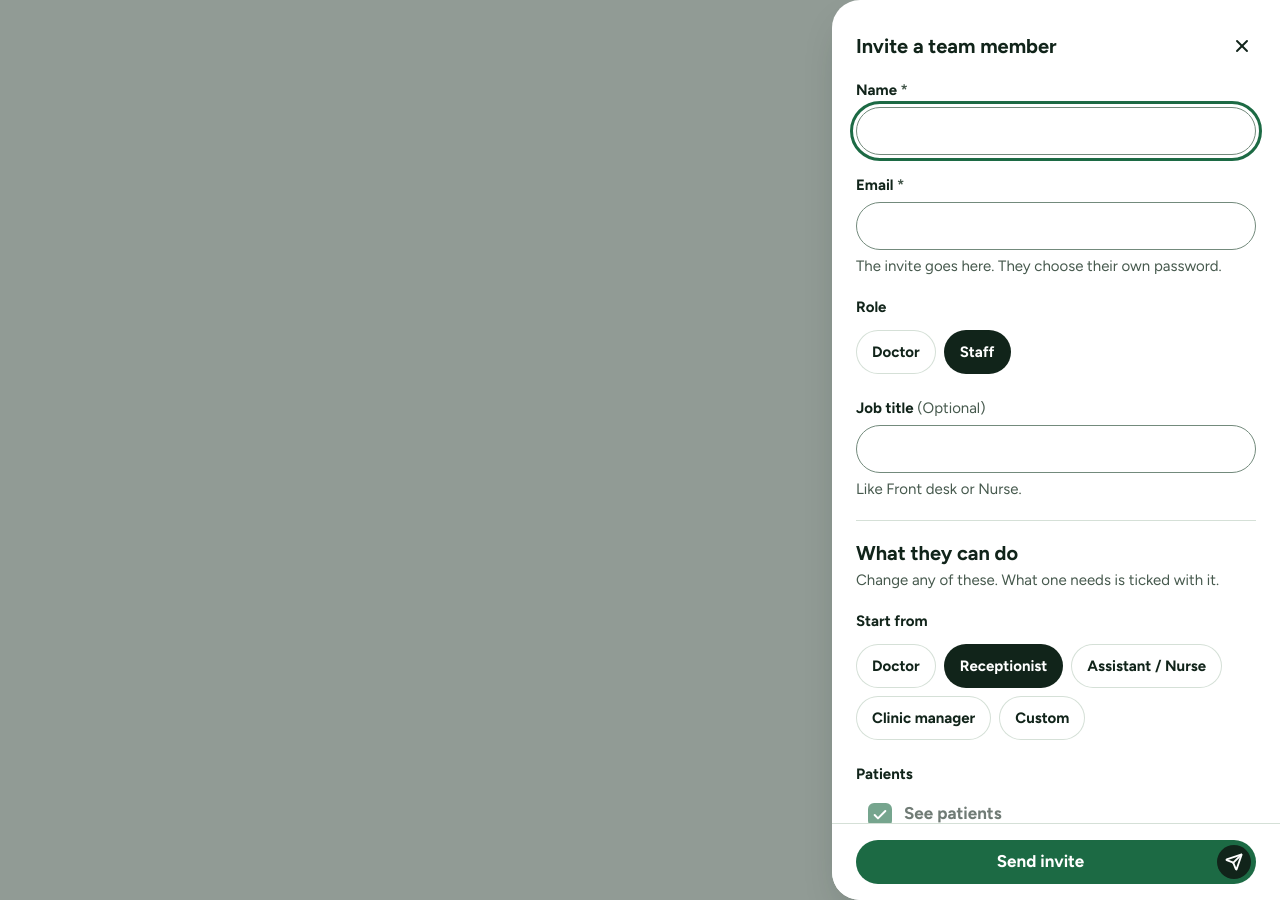
Test: InviteSheet (plan §8.4, D89) › keeps an invite whose email didn't go, and says to resend it
Type "Meera Pillai" into the field labelled "Name *". click: (1056, 131)
box: x1=856 y1=107 x2=1256 y2=155
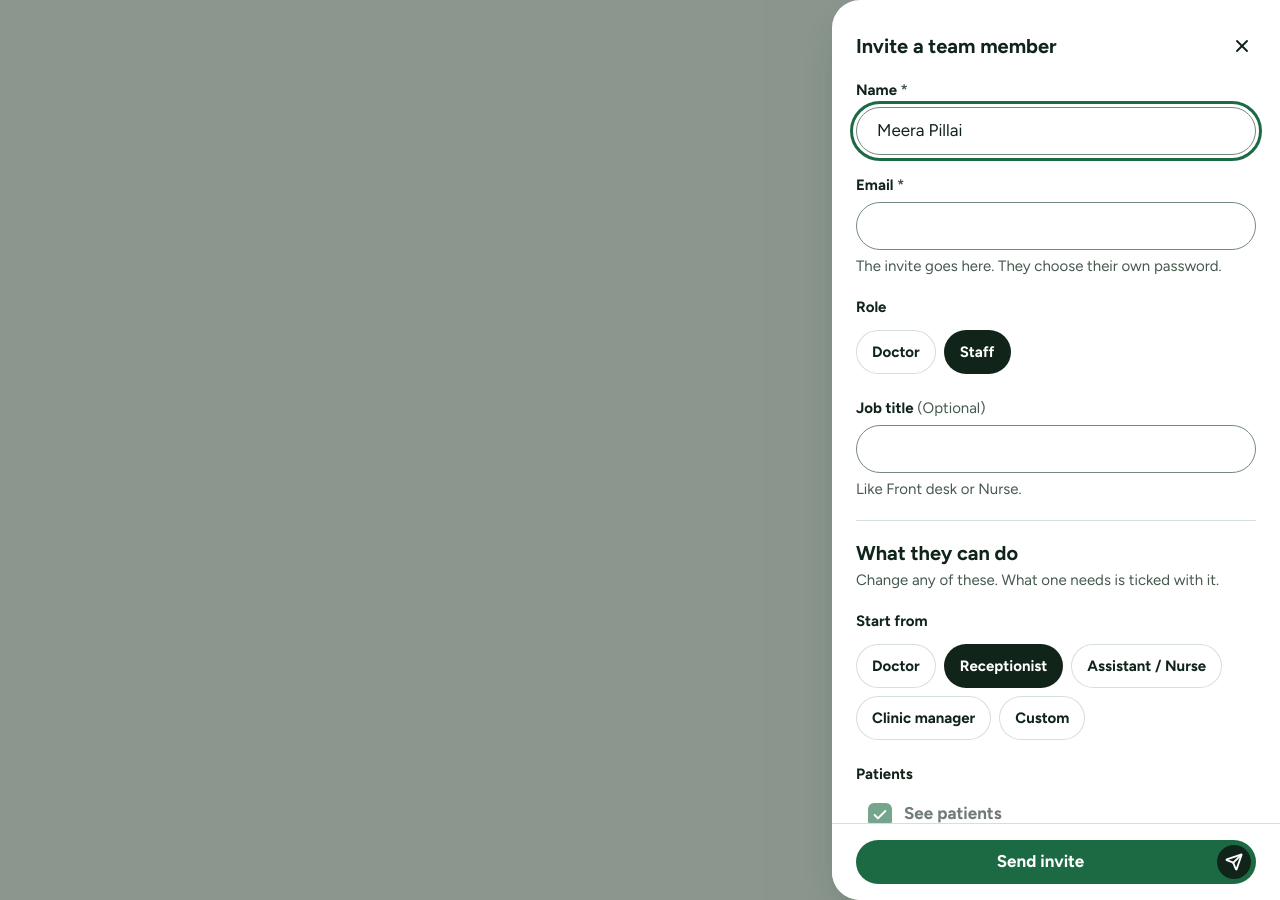
Type "meera@example.com" into the field labelled "Email *". click: (1056, 226)
box: x1=856 y1=202 x2=1256 y2=250
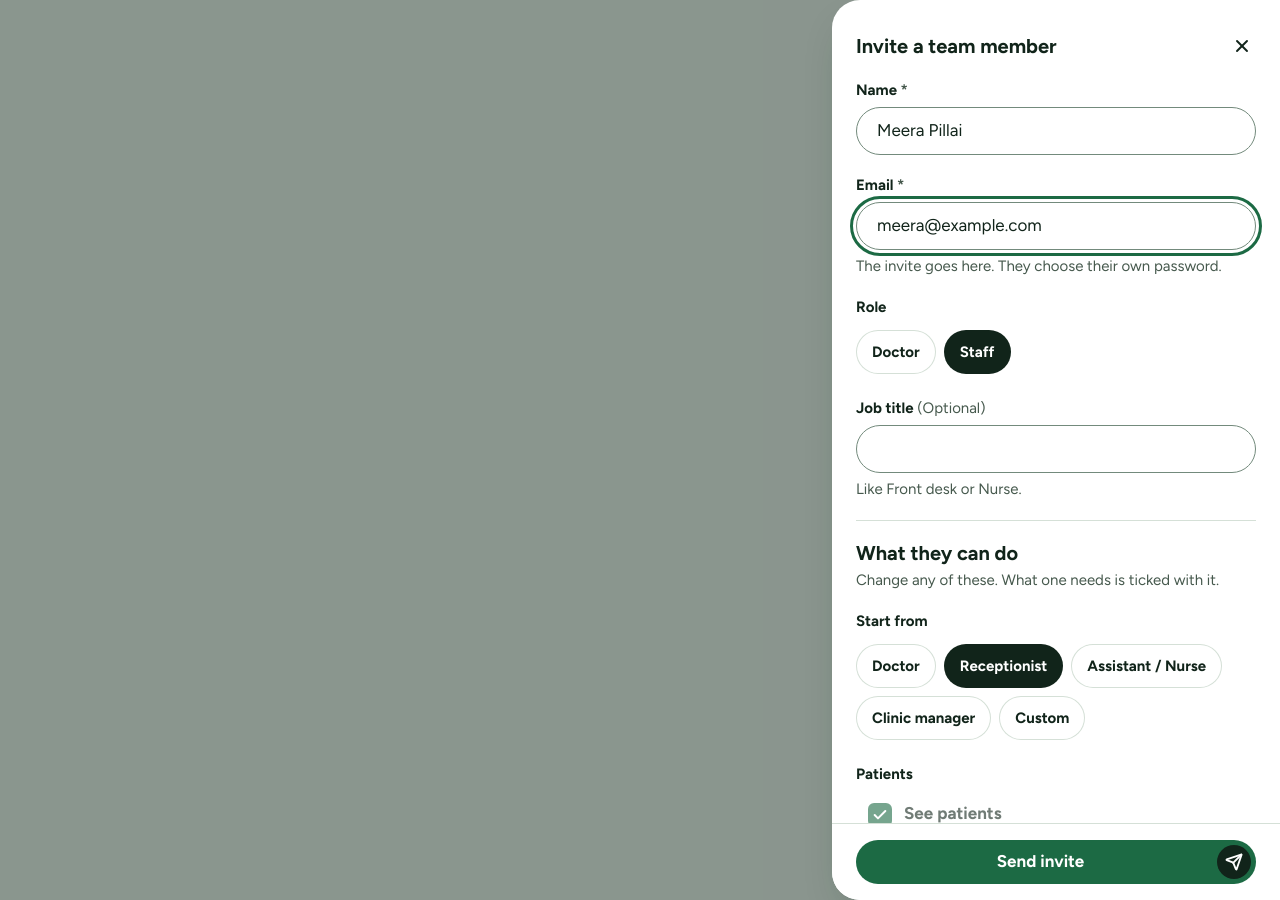
Click the button "Send invite". click: (1056, 862)
box: x1=856 y1=840 x2=1256 y2=884
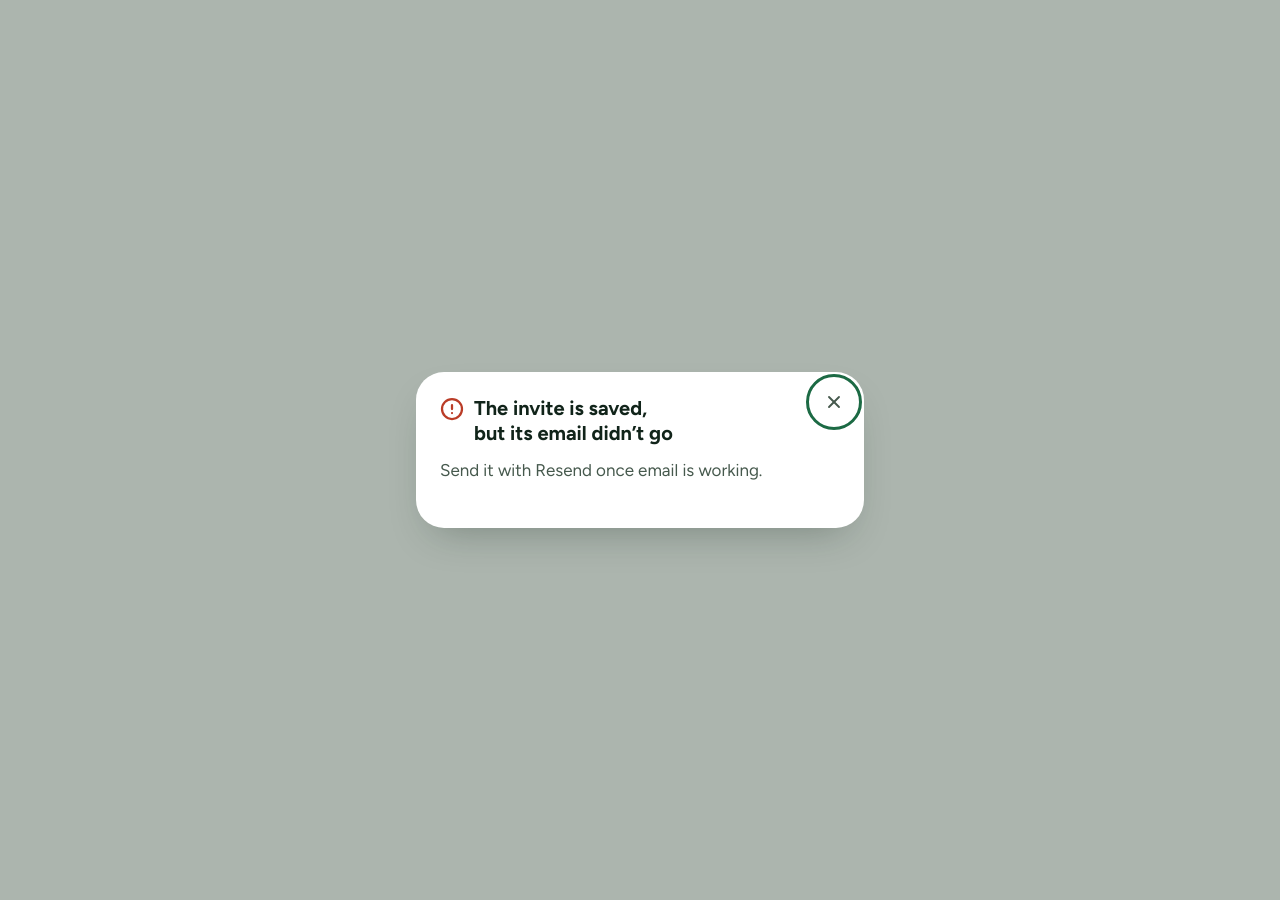
Check: the dialog "The invite is saved, but its email didn’t go" shows "Send it with Resend once email is working.", box x1=440 y1=460 x2=762 y2=480
